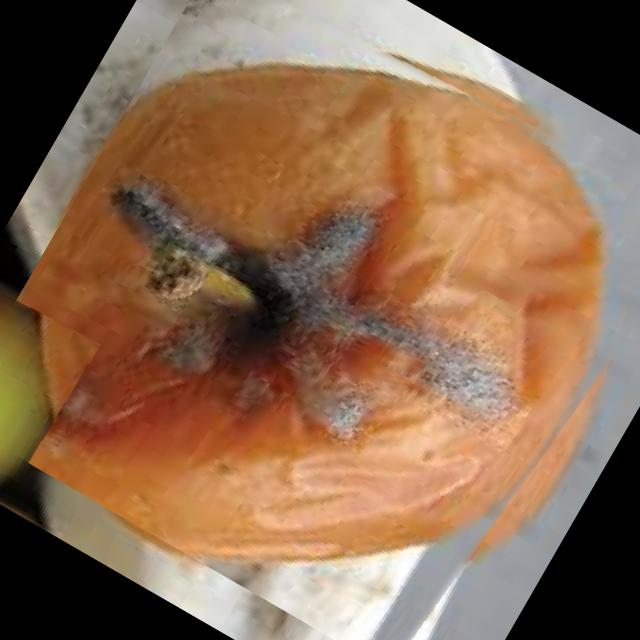Organic: (0, 0, 640, 640), (0, 273, 99, 507)
